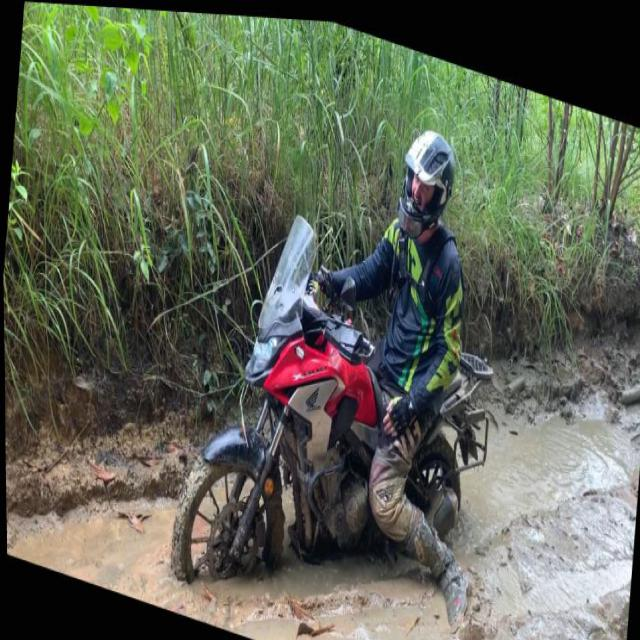CB500X: (163, 166, 484, 638)
